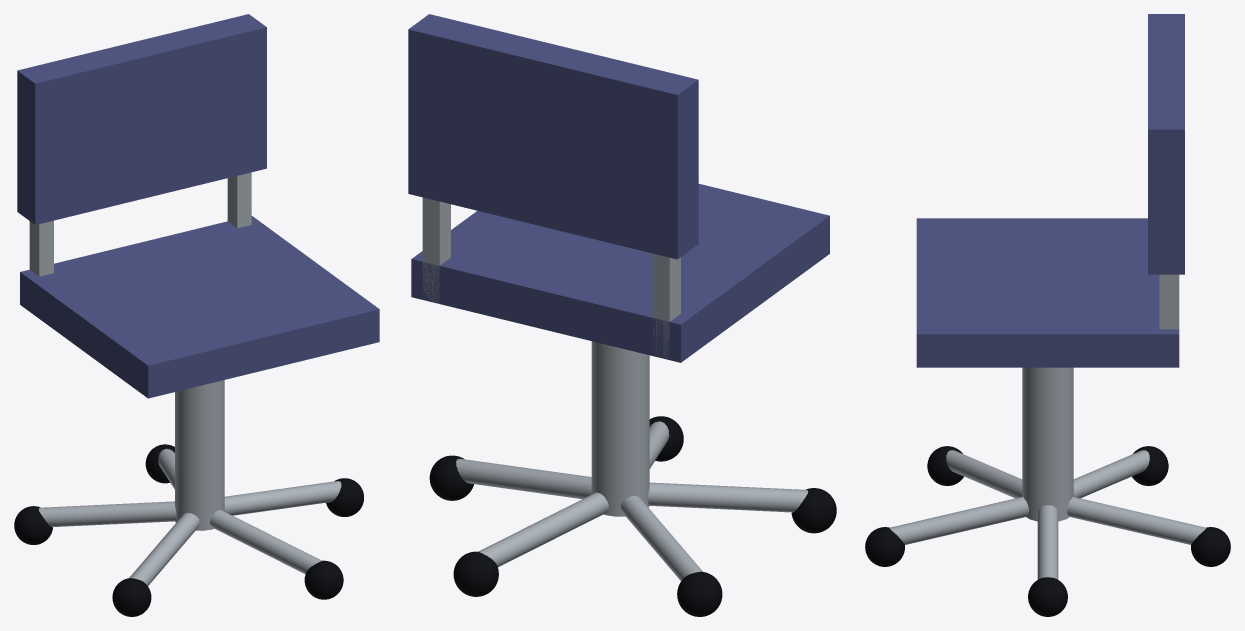
File: Irodaszek.obj
The picture shows the model from 3 angles, left to right: view 1: azimuth 30°, elevation 25°; view 2: azimuth 150°, elevation 25°; view 3: azimuth 270°, elevation 25°; orthographic projection. The views are drawn at different scales.
Bounding box in the file's own units: 0.6127 × 0.91 × 0.6406.
